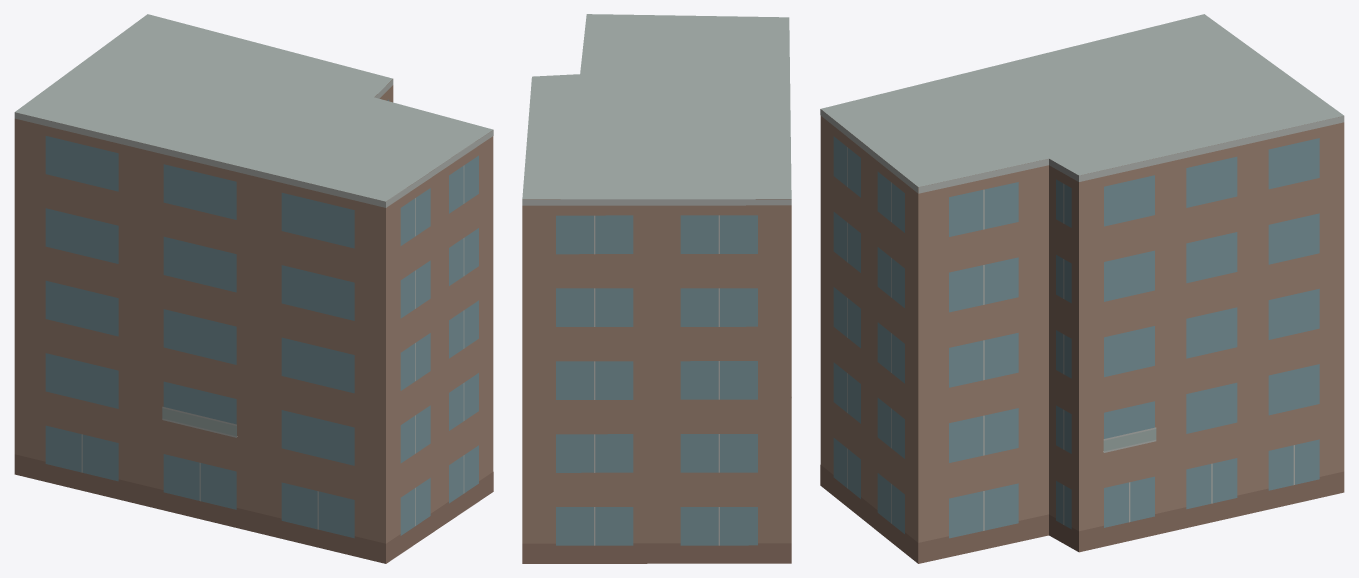
Rendered from survey-upis-32917114.glb.
The picture shows the model from 3 angles, left to right: view 1: azimuth 30°, elevation 25°; view 2: azimuth 150°, elevation 25°; view 3: azimuth 270°, elevation 25°; orthographic projection. The views are drawn at different scales.
Parts seen in each view (by area): view 1: survey-upis-32917114.tmp; view 2: survey-upis-32917114.tmp; view 3: survey-upis-32917114.tmp.
Boxes of the visible parts, x1,y1,x2,y2 form: survey-upis-32917114.tmp: [14, 14, 493, 563]; survey-upis-32917114.tmp: [522, 14, 791, 563]; survey-upis-32917114.tmp: [820, 14, 1344, 563].
Bounding box in the file's own units: 13.81 × 14 × 17.65.
